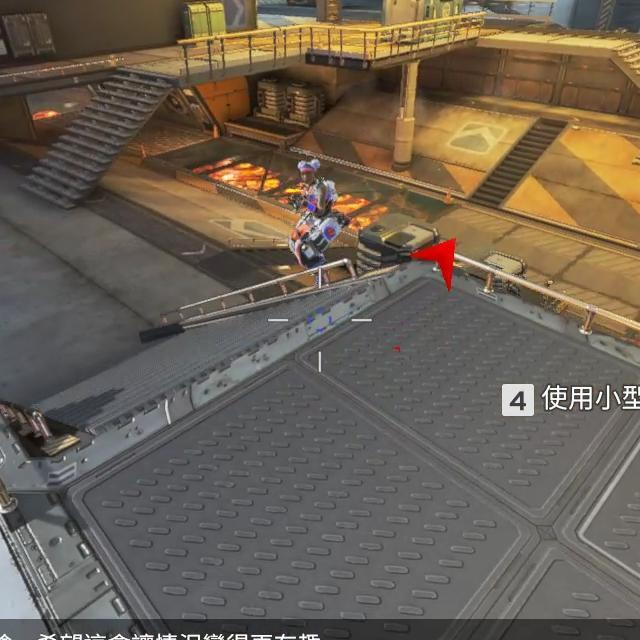avatar: (286, 157, 346, 284)
